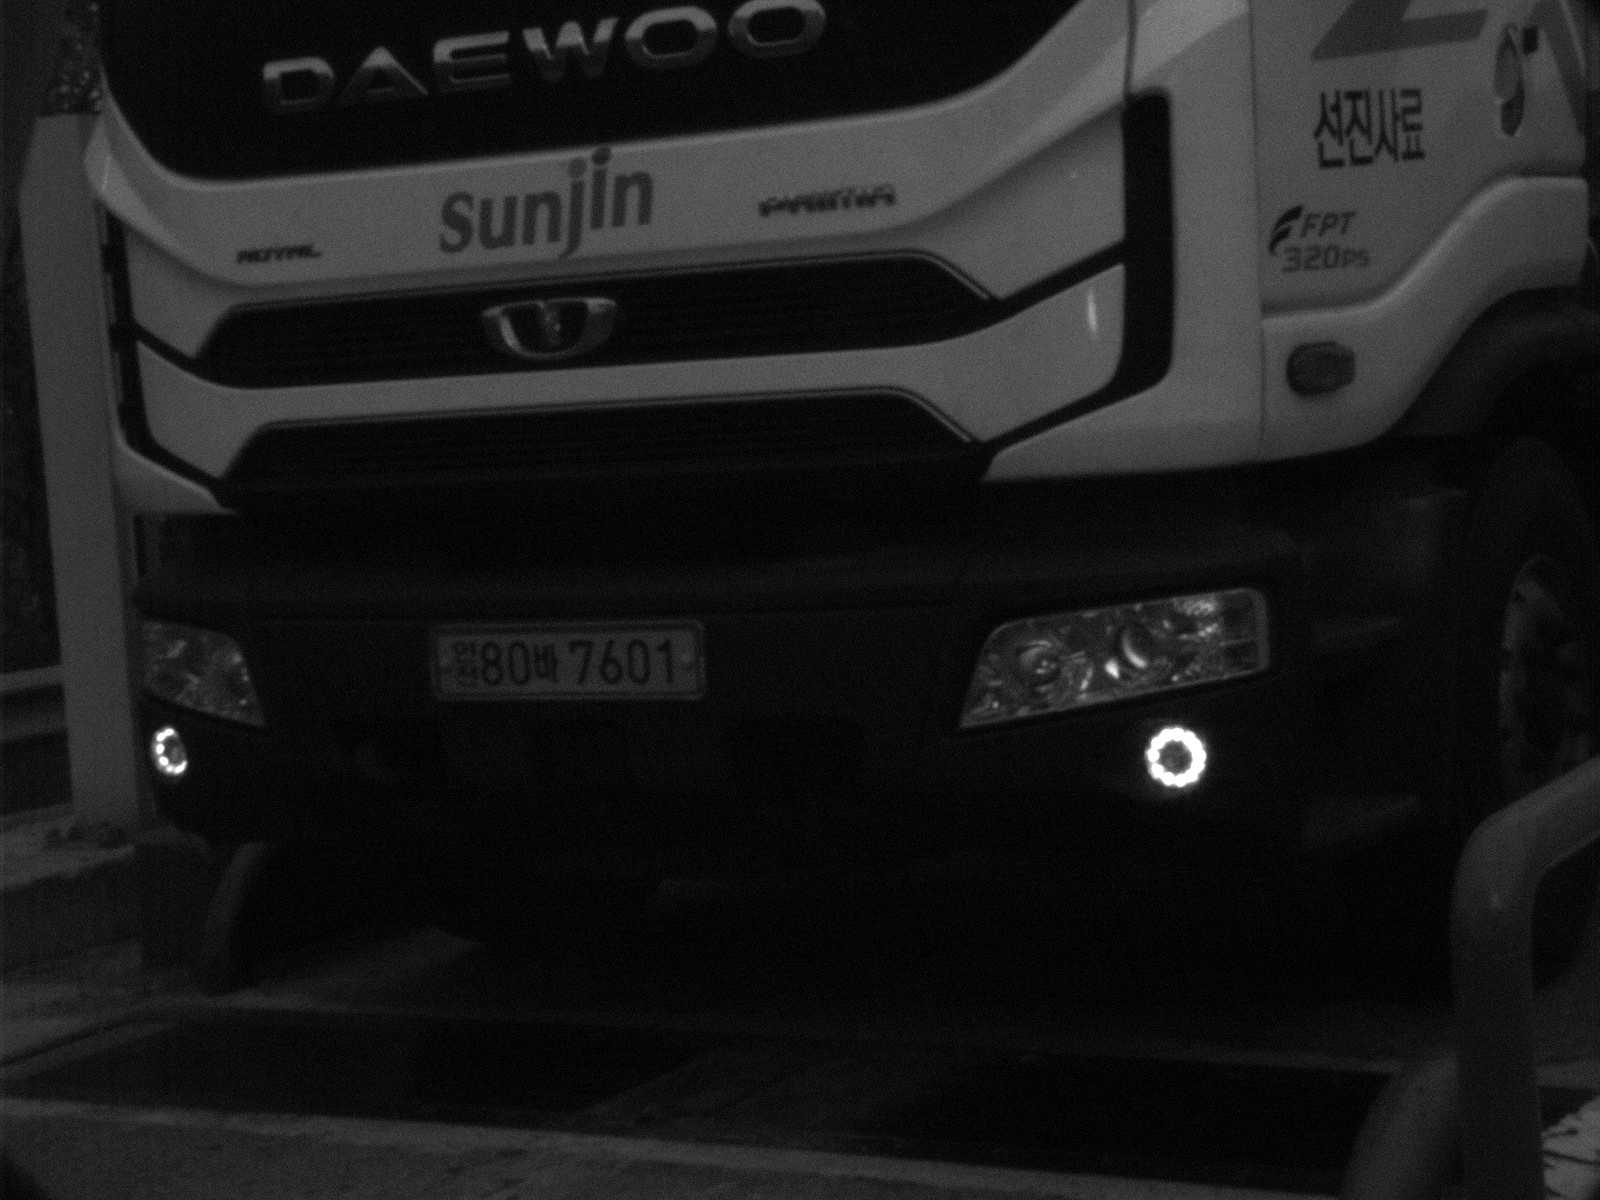car: (75, 1, 1598, 968)
plate: (420, 618, 713, 704)
